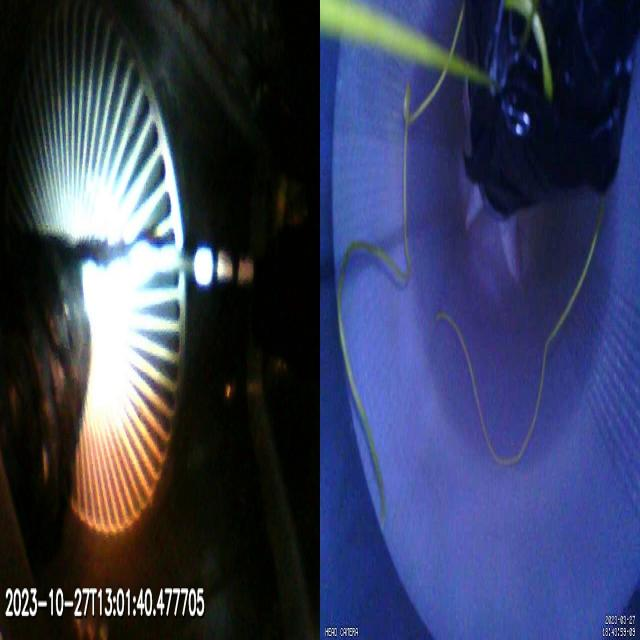white-dots: (193, 242, 256, 290)
